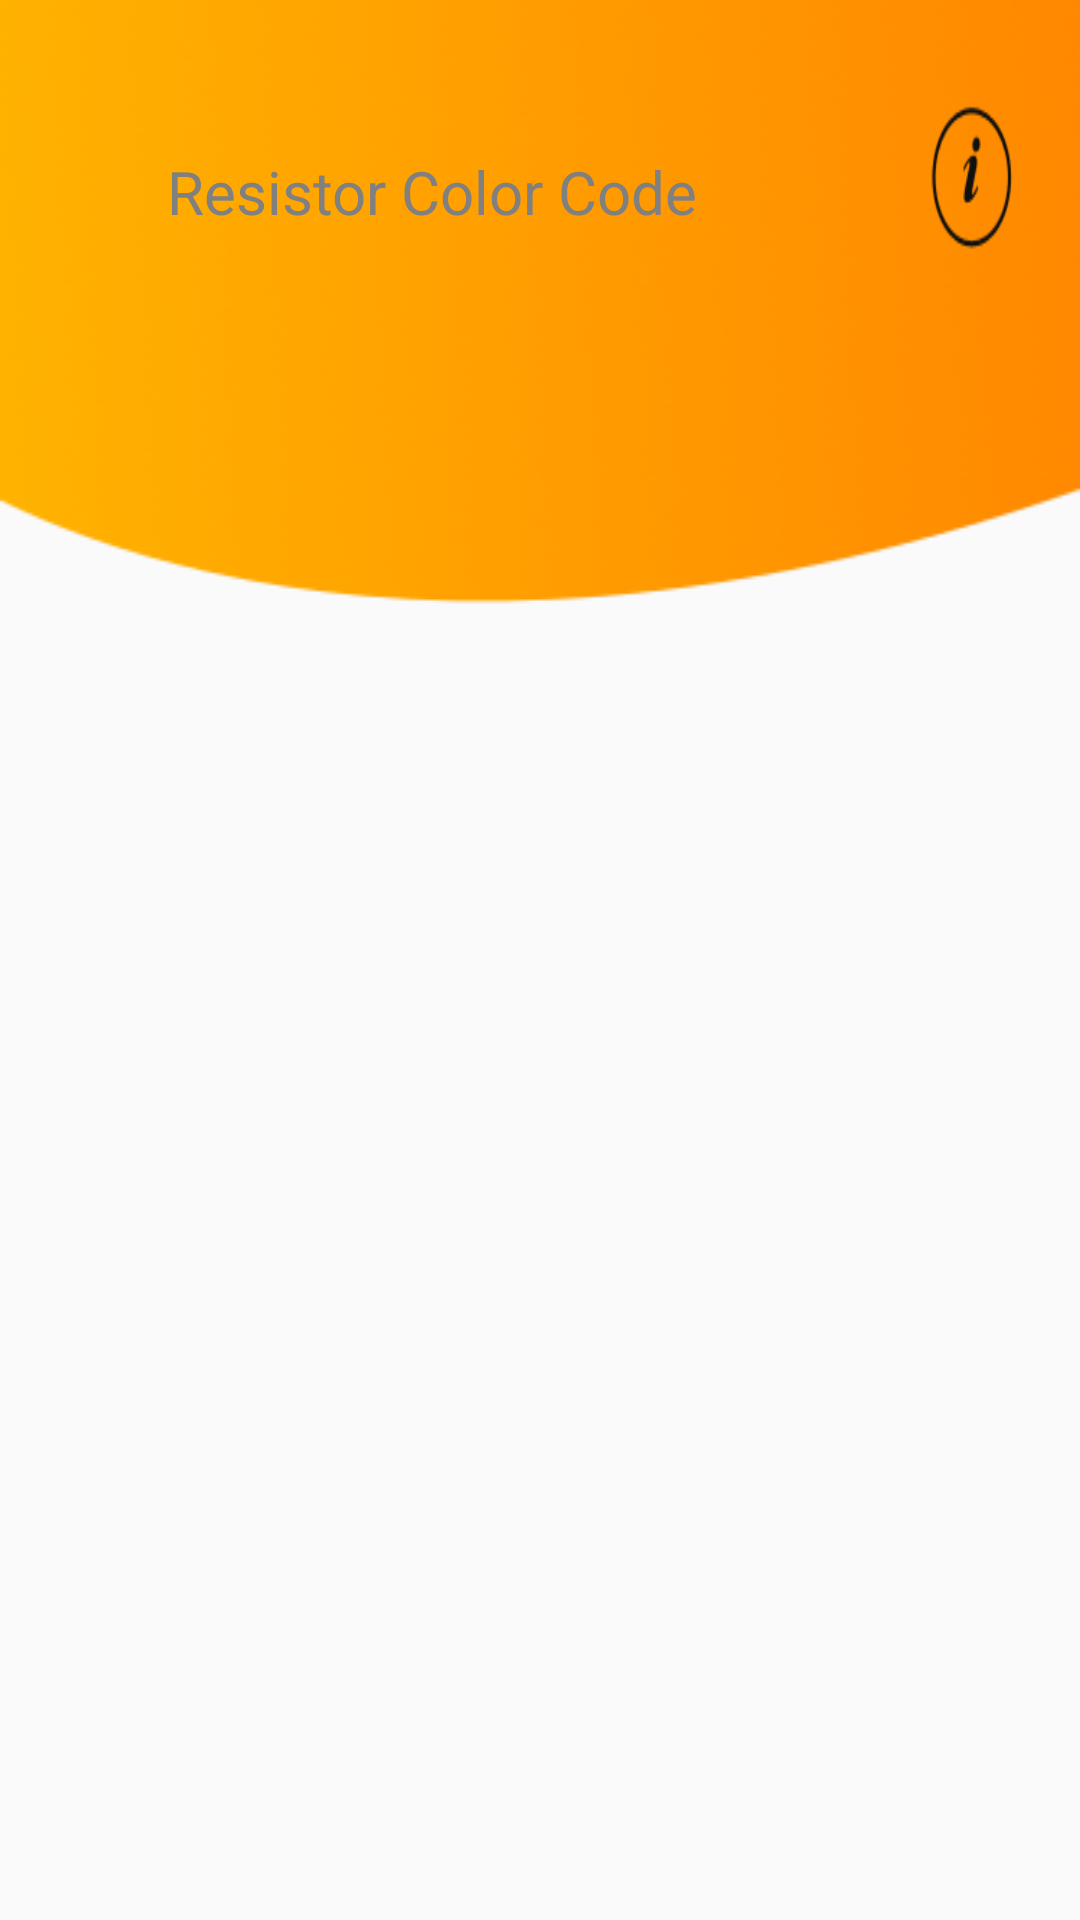

Where to tap for icons on this 1080 x 1920 app screen, as [x,y]:
info: [971,178]
